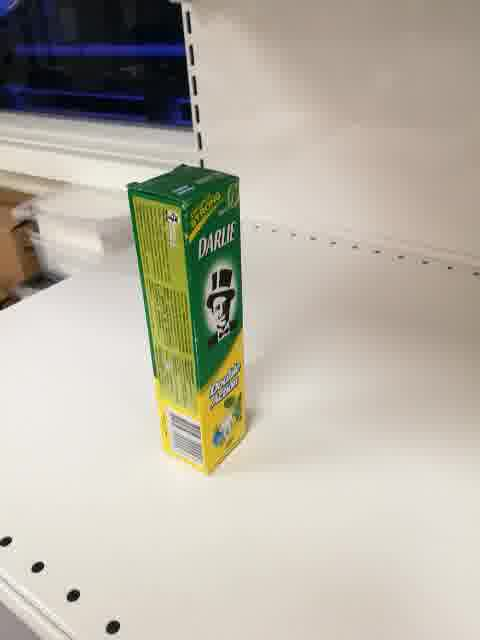toothpaste: (126, 164, 249, 476)
